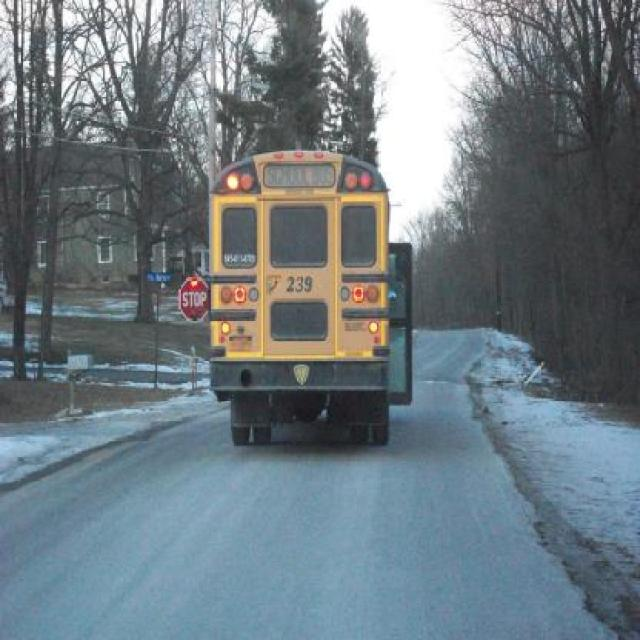Bus: (204, 145, 416, 450)
